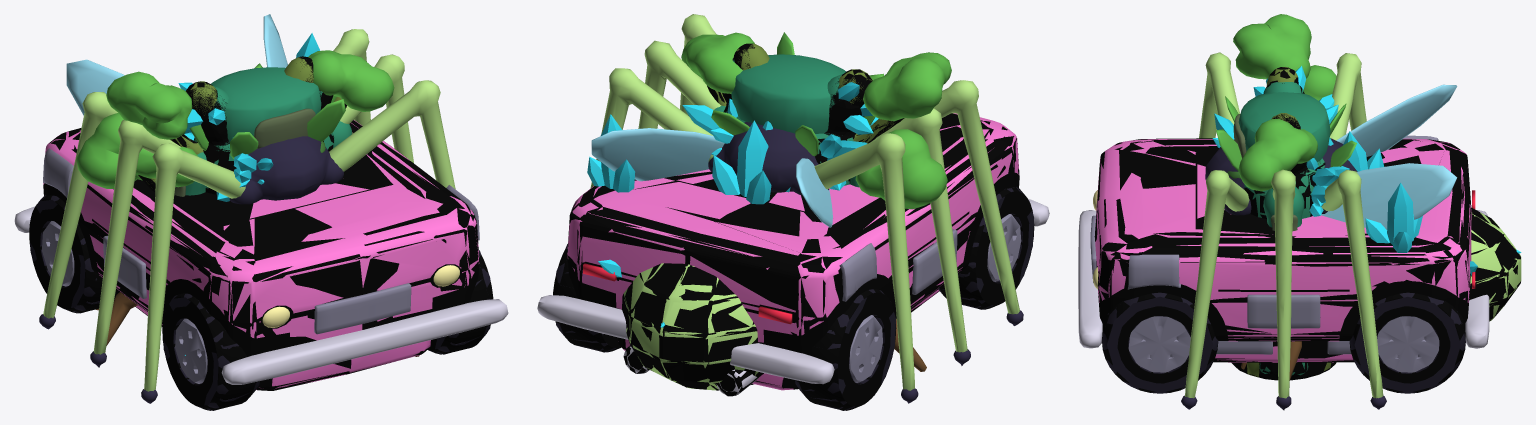
File: chimera_hd.glb
3 views of the same model, side by side, from view 1: azimuth 30°, elevation 25°; view 2: azimuth 150°, elevation 25°; view 3: azimuth 270°, elevation 25° (orthographic). The views are drawn at different scales.
Parts seen in each view (by area): view 1: hd_legs_car_hull, hd_legs_car_hull_ink, hd_legs_car_bumpers, hd_legs_mite_legL2_seg, hd_legs_car_mut_armor_14, hd_legs_mite_legR2_seg, hd_legs_person_pelvis, hd_legs_mite_thorax, hd_legs_mite_legL1_seg, hd_legs_car_wheelLF_tire_ink, hd_body_sapling_leaves2, hd_body_sapling_leaves1 (+25 smaller); view 2: hd_legs_car_hull, hd_legs_car_hull_ink, hd_legs_person_pelvis, hd_legs_mite_legL0_seg, hd_legs_car_bumpers, hd_body_mite_wing1, hd_body_mite_body_ink, hd_body_mite_body_twin_ink, hd_legs_mite_legL2_seg, hd_legs_car_wheelLB_tire_ink, hd_body_sapling_leaves2, hd_legs_mite_legL1_seg (+27 smaller); view 3: hd_legs_car_hull, hd_legs_car_hull_ink, hd_legs_mite_legR2_seg, hd_legs_car_mut_armor_14, hd_legs_mite_legR0_seg, hd_body_mite_wing1, hd_body_sapling_leaves2, hd_legs_mite_legR1_seg, hd_legs_car_bumpers, hd_body_sapling_leaves1, hd_body_mite_wing-1, hd_legs_car_wheelRF_tire (+28 smaller).
Boxes of the visible parts, left/top/right/bottom form: hd_legs_car_hull: left=43, top=120, right=479, bottom=340; hd_legs_car_hull_ink: left=43, top=120, right=479, bottom=356; hd_legs_car_bumpers: left=14, top=206, right=508, bottom=384; hd_legs_mite_legL2_seg: left=144, top=143, right=245, bottom=391; hd_legs_car_mut_armor_14: left=43, top=148, right=479, bottom=334; hd_legs_mite_legR2_seg: left=329, top=80, right=455, bottom=189; hd_legs_person_pelvis: left=211, top=67, right=321, bottom=141; hd_legs_mite_thorax: left=229, top=136, right=343, bottom=204; hd_legs_mite_legL1_seg: left=93, top=120, right=180, bottom=354; hd_legs_car_wheelLF_tire_ink: left=162, top=293, right=259, bottom=410; hd_body_sapling_leaves2: left=106, top=71, right=192, bottom=139; hd_body_sapling_leaves1: left=308, top=50, right=394, bottom=111; hd_legs_car_hull: left=567, top=113, right=1018, bottom=342; hd_legs_car_hull_ink: left=567, top=113, right=1019, bottom=354; hd_legs_person_pelvis: left=731, top=54, right=846, bottom=133; hd_legs_mite_legL0_seg: left=814, top=133, right=914, bottom=390; hd_legs_car_bumpers: left=537, top=199, right=1049, bottom=384; hd_body_mite_wing1: left=591, top=128, right=724, bottom=181; hd_body_mite_body_ink: left=622, top=263, right=762, bottom=390; hd_body_mite_body_twin_ink: left=623, top=263, right=763, bottom=390; hd_legs_mite_legL2_seg: left=934, top=80, right=1019, bottom=314; hd_legs_car_wheelLB_tire_ink: left=795, top=289, right=896, bottom=410; hd_body_sapling_leaves2: left=863, top=52, right=951, bottom=121; hd_legs_mite_legL1_seg: left=869, top=108, right=967, bottom=352; hd_legs_car_hull: left=1095, top=138, right=1471, bottom=341; hd_legs_car_hull_ink: left=1094, top=138, right=1471, bottom=341; hd_legs_mite_legR2_seg: left=1185, top=170, right=1249, bottom=398; hd_legs_car_mut_armor_14: left=1090, top=135, right=1438, bottom=328; hd_legs_mite_legR0_seg: left=1321, top=169, right=1383, bottom=398; hd_body_mite_wing1: left=1321, top=163, right=1457, bottom=229; hd_body_sapling_leaves2: left=1233, top=14, right=1311, bottom=79; hd_legs_mite_legR1_seg: left=1271, top=169, right=1295, bottom=398; hd_legs_car_bumpers: left=1078, top=210, right=1489, bottom=348; hd_body_sapling_leaves1: left=1238, top=119, right=1317, bottom=191; hd_body_mite_wing-1: left=1336, top=84, right=1457, bottom=156; hd_legs_car_wheelRF_tire: left=1102, top=292, right=1218, bottom=393.
Bounding box in the file's own units: 1 × 0.8891 × 1.22.
